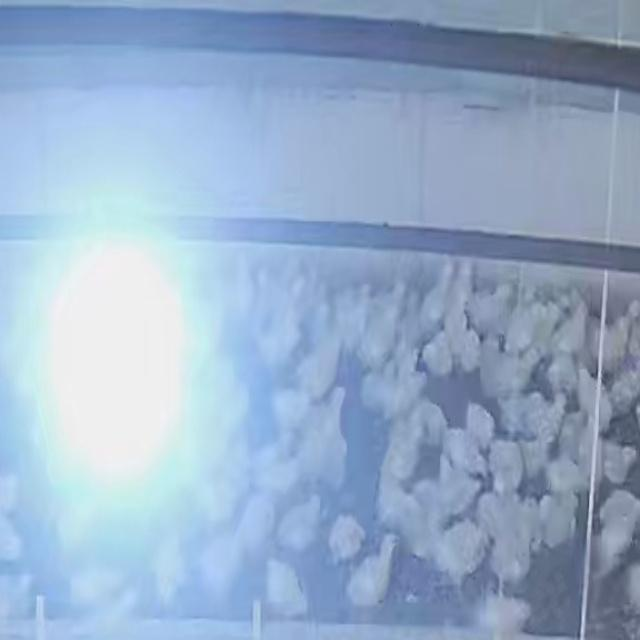chicken: (343, 530, 407, 605), (264, 559, 314, 619), (442, 520, 486, 579), (581, 366, 620, 430), (282, 498, 326, 554), (543, 490, 584, 549), (329, 508, 372, 562), (232, 496, 274, 548), (465, 397, 501, 451), (448, 427, 491, 472), (203, 538, 238, 588), (550, 452, 594, 490), (274, 383, 311, 426), (428, 331, 456, 376)
